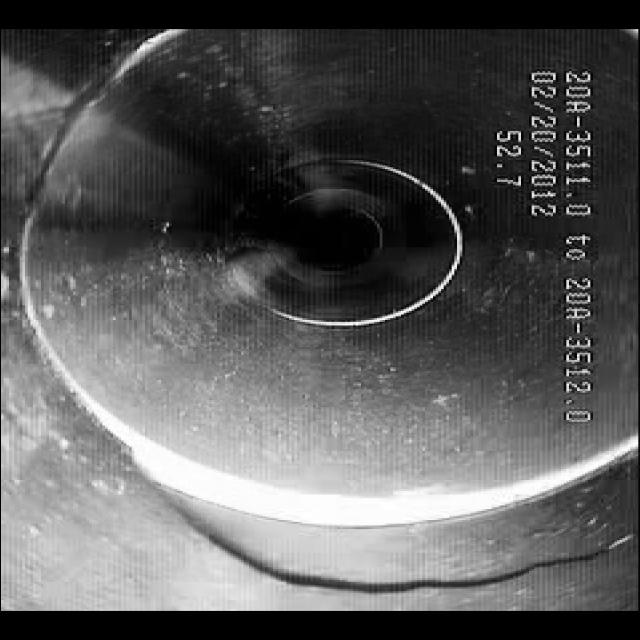Fracture: (116, 500, 612, 604)
